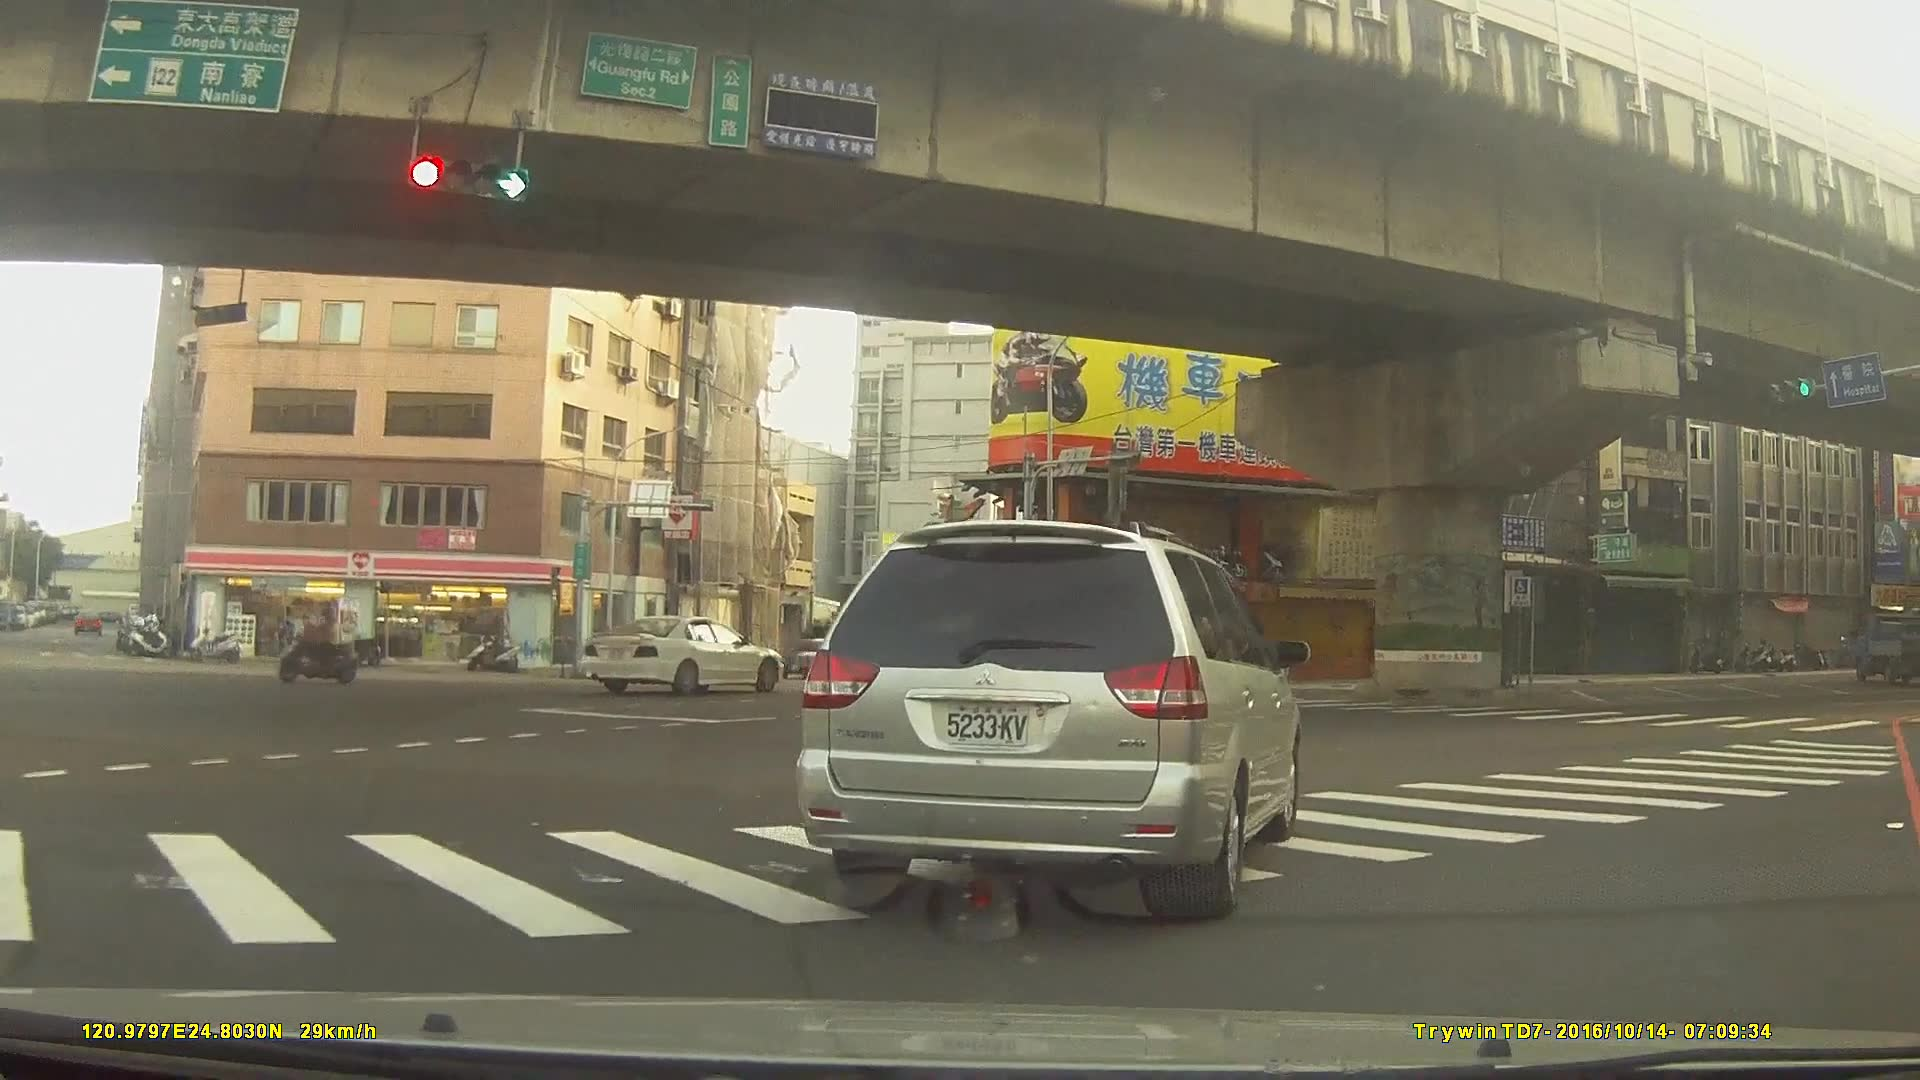rider: (281, 599, 361, 684)
vehicle: (789, 520, 1301, 927), (578, 612, 785, 697), (1847, 614, 1920, 684), (783, 636, 857, 678), (72, 607, 103, 633)
